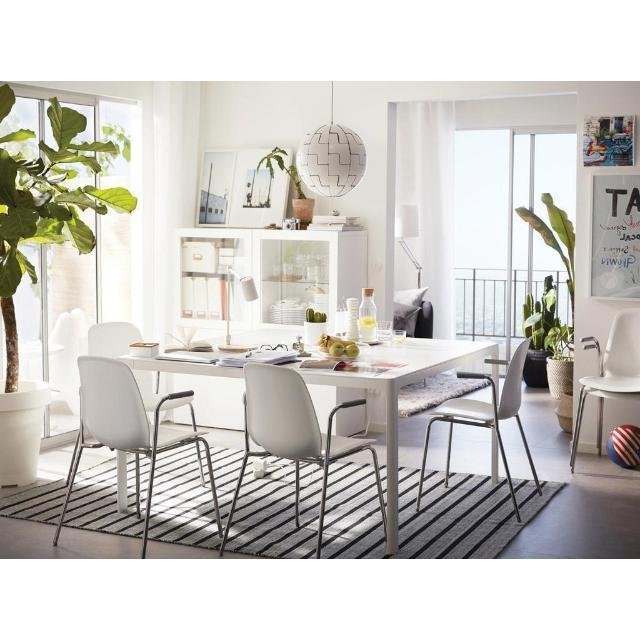chair: (54, 356, 222, 558), (220, 364, 386, 558), (416, 338, 542, 522), (570, 308, 640, 472)
curtain: (142, 81, 201, 340)
light: (296, 82, 368, 197)
plant: (0, 98, 136, 486), (256, 147, 315, 224), (522, 276, 560, 387), (545, 318, 574, 398)
rug: (398, 467, 521, 558), (226, 457, 321, 558), (150, 446, 220, 549), (321, 461, 385, 558), (64, 459, 141, 537), (0, 481, 66, 523), (211, 447, 244, 523), (512, 478, 564, 522)
shelf: (175, 227, 368, 333)
table: (299, 338, 499, 555)
wall-art: (590, 174, 640, 299), (229, 150, 290, 227), (198, 151, 236, 225), (581, 115, 635, 167)
